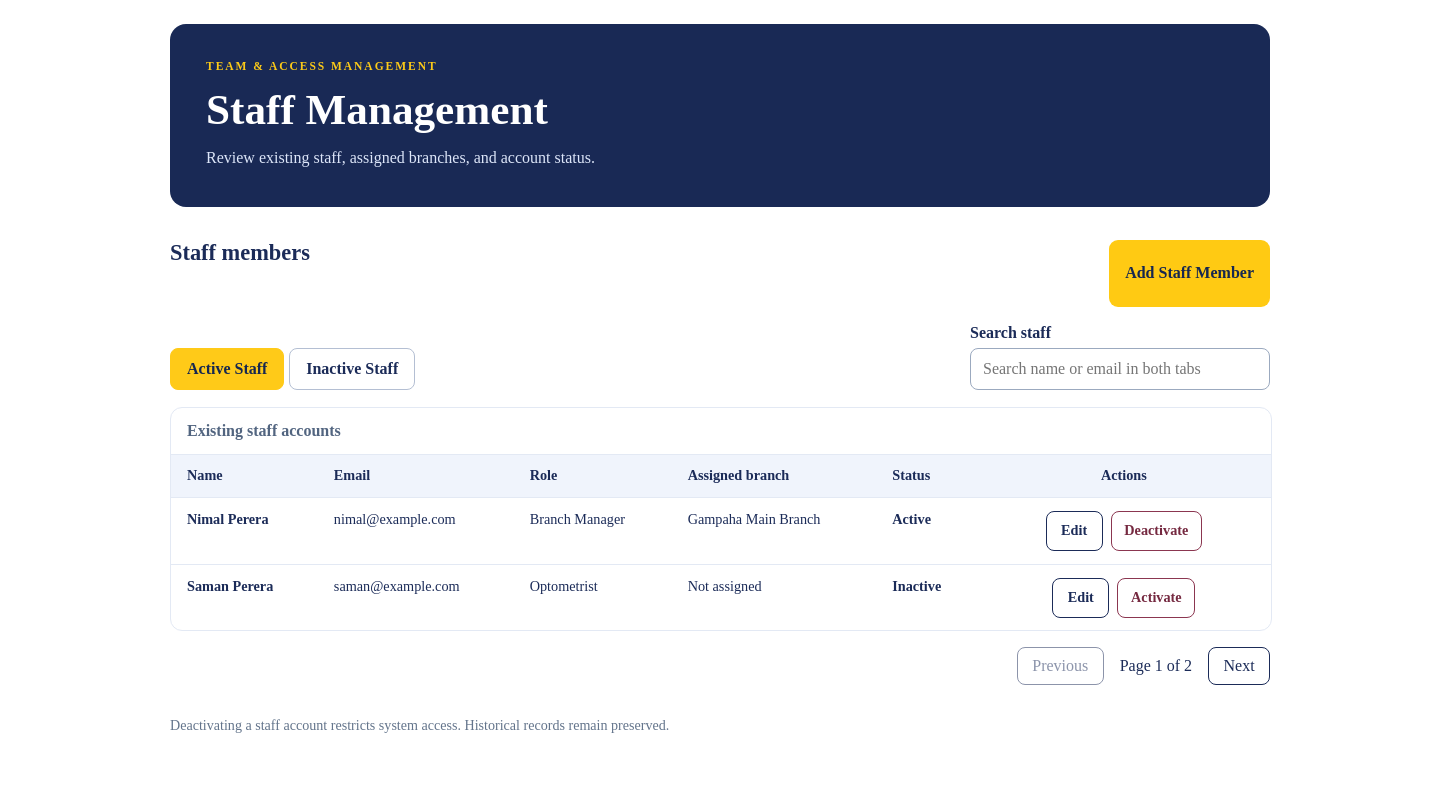
DDP-094 Staff Management List › handles protected-account conflict without claiming a successful change
The image size is (1440, 810).
Expected: the column heading "Nimal Perera" is shown, [171, 498, 318, 564]
Click the button named "Deactivate Nimal Perera" at (1156, 531), box [1110, 511, 1202, 551]
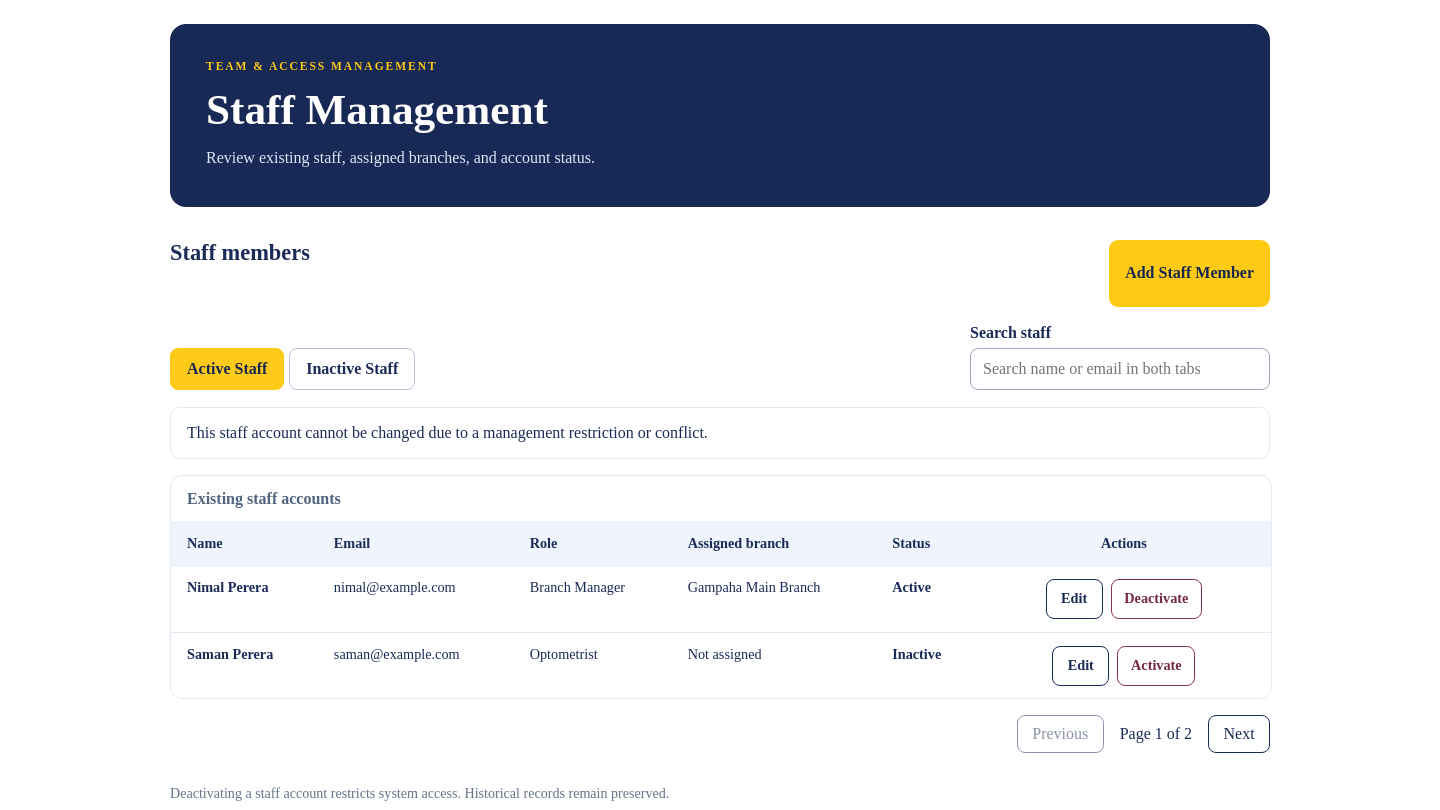
Result: the message shows "cannot be changed" at [187, 424, 708, 441]
